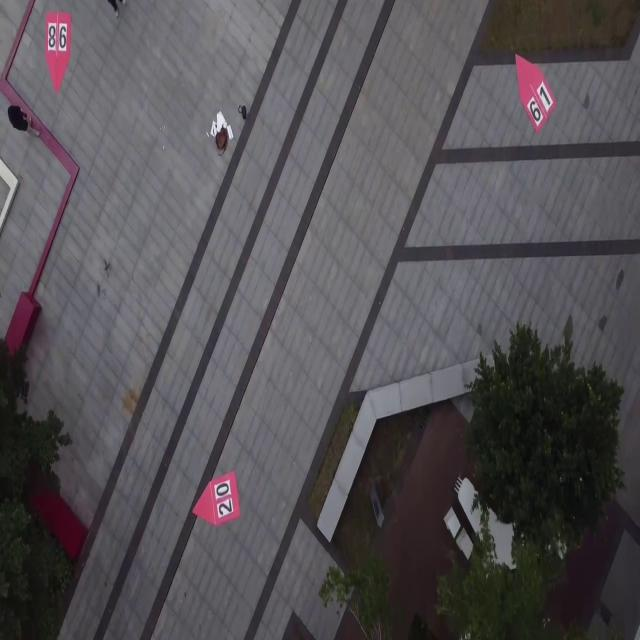-sign-: (1, 6, 82, 329), (515, 52, 556, 134), (193, 471, 240, 527), (44, 10, 70, 92), (1, 151, 20, 250)
